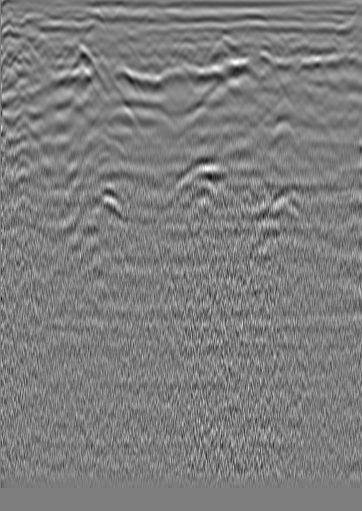가스: (87, 184, 127, 222)
상수: (310, 35, 330, 55)
우수: (205, 31, 225, 51)
